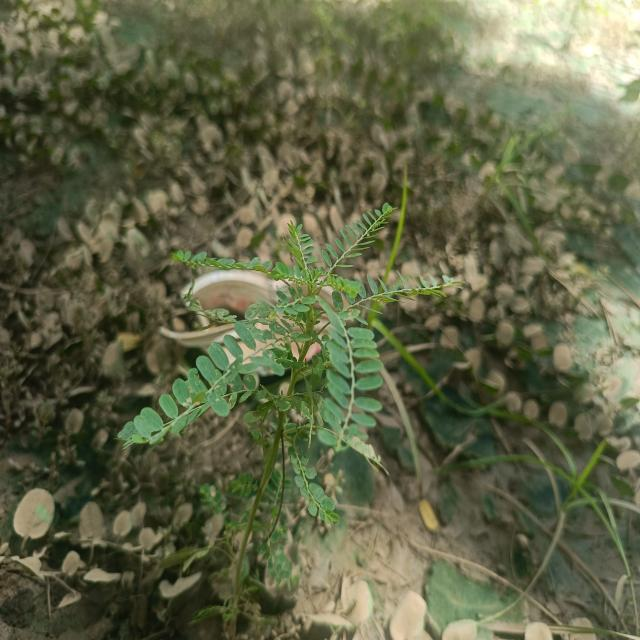weed: (115, 204, 460, 455), (201, 422, 359, 596)
